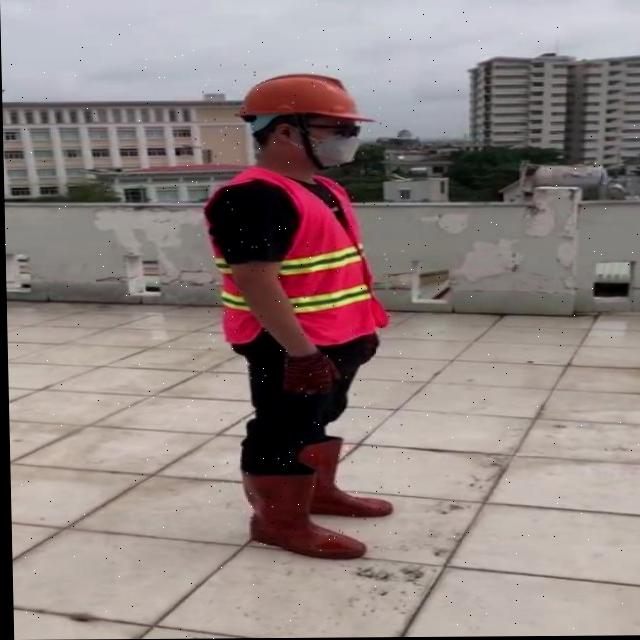Gloves: (279, 348, 340, 397)
Helmet: (233, 73, 376, 131)
Safety-Boot: (240, 465, 366, 560), (295, 434, 392, 518)
Safety-Vest: (202, 166, 390, 348)
